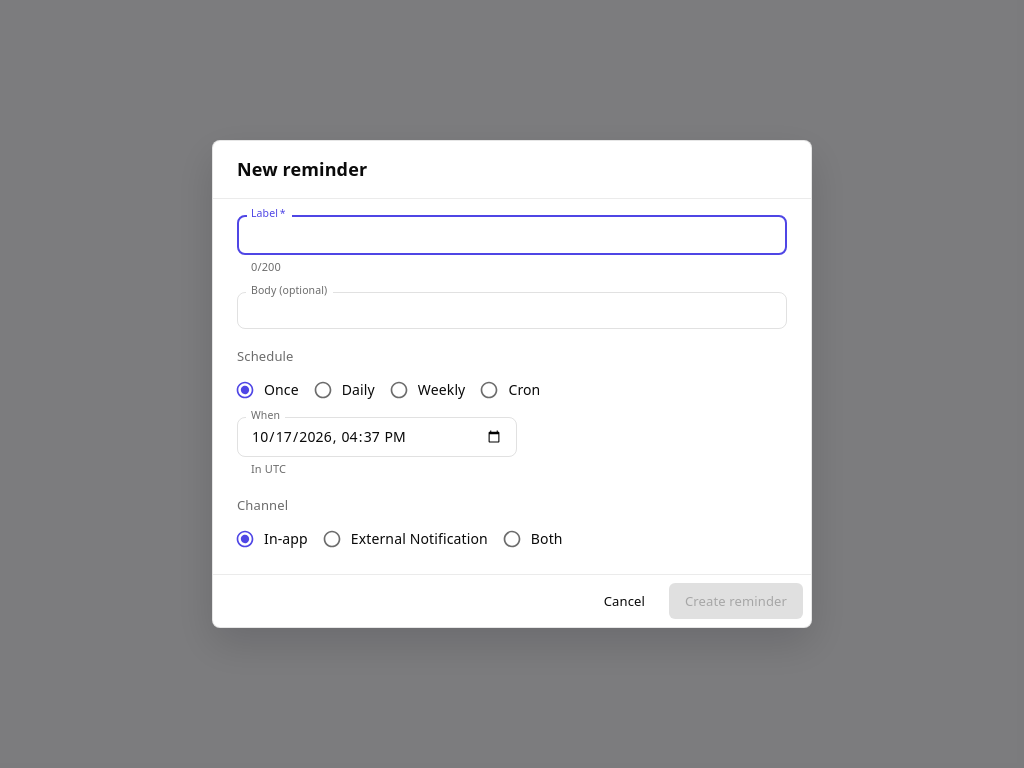
Test: NewReminderModal › buildSchedule once branch — empty datetime-local string shows schedule error
The image size is (1024, 768).
Type "Bad once" into the field labelled "Label *" at (512, 235), box [237, 215, 787, 255]
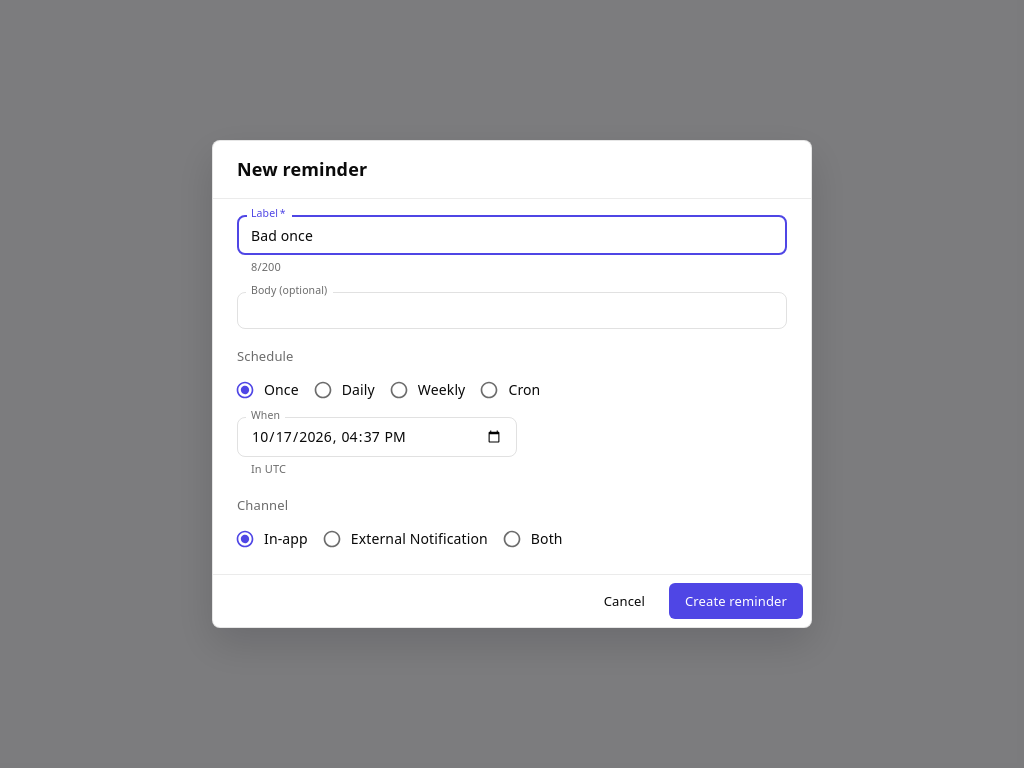
Clear the field labelled "When" at (377, 437), box [237, 417, 517, 457]
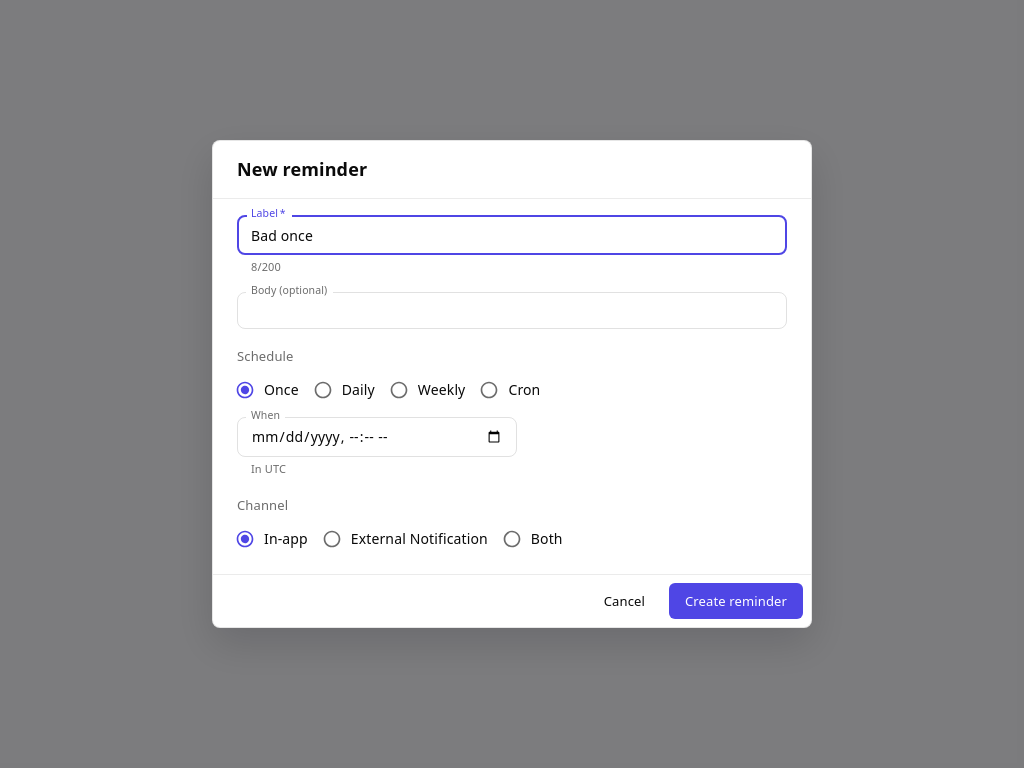
Click the button "Create reminder" at (736, 601), box [669, 583, 803, 619]
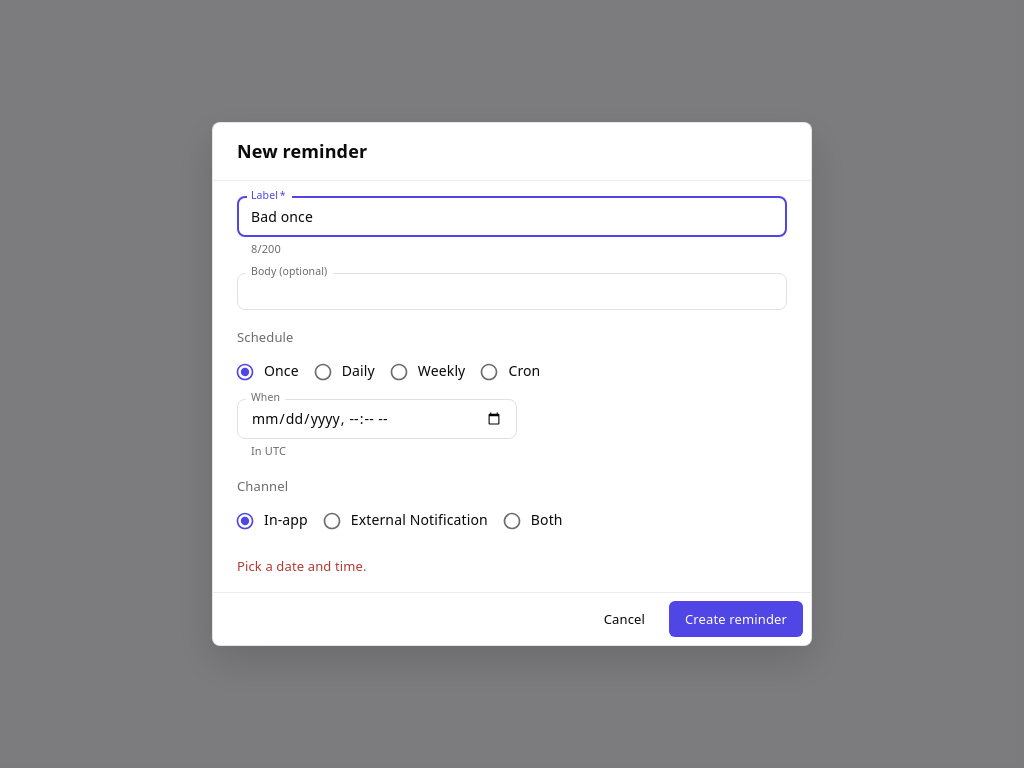
Result: the message reads "Pick a date and time." at [237, 557, 367, 575]
